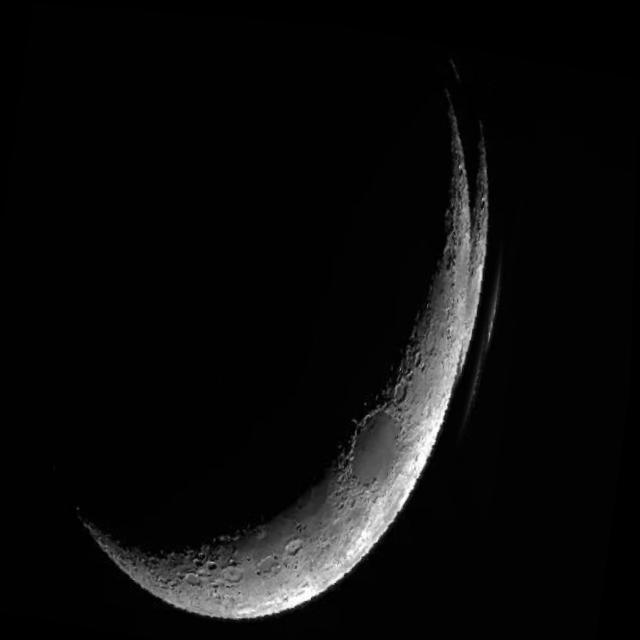moon: (9, 1, 546, 640)
